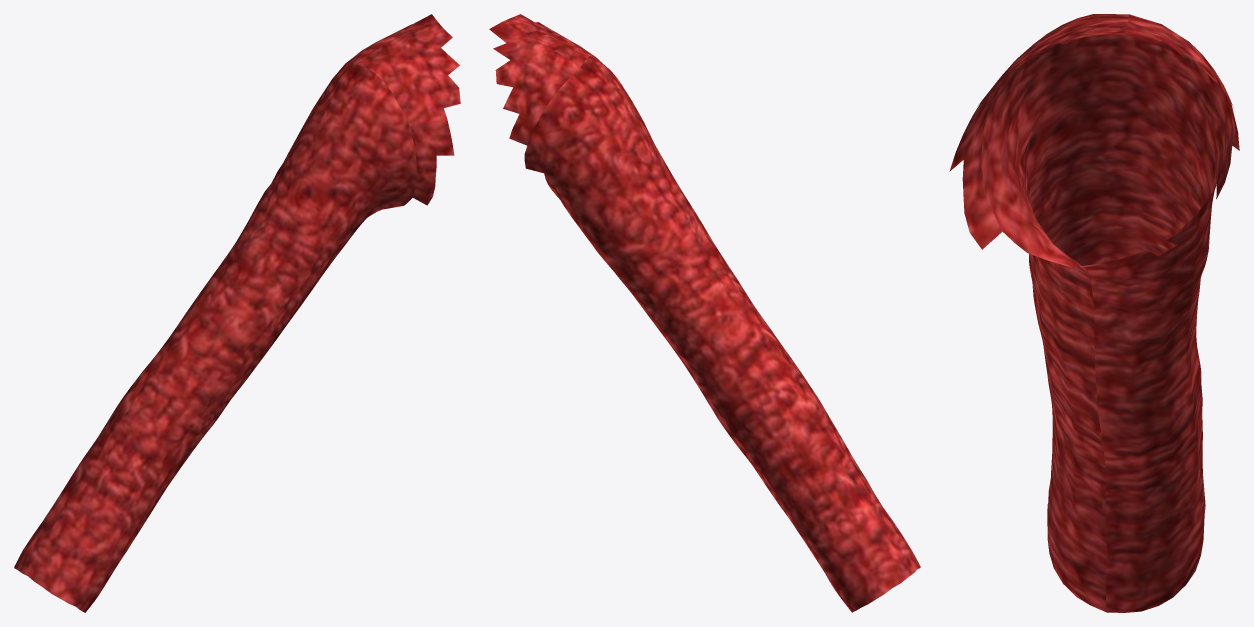
Rendered from Red Sleeve.fbx.
3 renders of one model, left to right at view 1: azimuth 30°, elevation 25°; view 2: azimuth 150°, elevation 25°; view 3: azimuth 270°, elevation 25°, orthographic. The views are drawn at different scales.
Parts seen in each view (by area): view 1: Jacket_; view 2: Jacket_; view 3: Jacket_.
Boxes of the visible parts, x1,y1,x2,y2 form: Jacket_: [14, 14, 460, 612]; Jacket_: [489, 14, 920, 612]; Jacket_: [949, 14, 1239, 612].
Bounding box in the file's own units: 15.79 × 18.04 × 5.35.
Materials: 1 (1 with a texture image).
